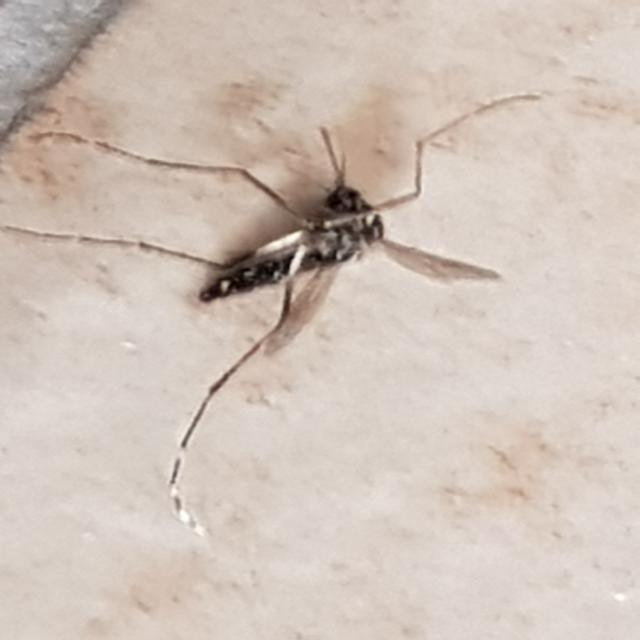albopictus: (25, 66, 529, 552)
